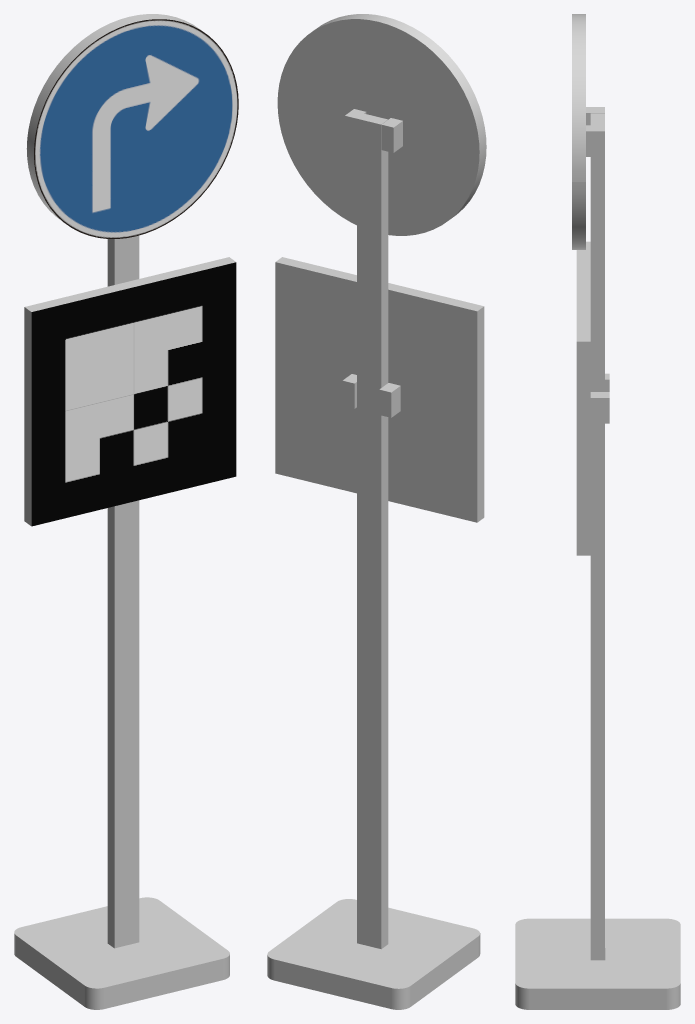
The model's file is cha_aruco.dae.
3 renders of one model, left to right at view 1: azimuth 30°, elevation 25°; view 2: azimuth 150°, elevation 25°; view 3: azimuth 270°, elevation 25°, orthographic.
Parts seen in each view (by area): view 1: aea54303-03fd-4aa6-96f5-ff9849d9c026, a60c0f55-69a4-4703-9c1a-8971016a5040, adc37a0b-d6b5-44ca-8d16-2541cd002376, a197386e-d030-40c2-a7d4-09921b7043b8, e4729a41-4d7e-447e-bb42-33a2dc1f8e3a, a0d124ff-a57a-484b-bef0-5493d590b941, f4819bcd-ab86-407b-a5e1-cd6843048b69; view 2: fed9b577-1571-4df9-b1ef-ef89185ca54c, a03252bc-6a1f-4b8d-af23-52d3ee2b32a1, adc37a0b-d6b5-44ca-8d16-2541cd002376, a197386e-d030-40c2-a7d4-09921b7043b8, e4729a41-4d7e-447e-bb42-33a2dc1f8e3a, a0d124ff-a57a-484b-bef0-5493d590b941, f4819bcd-ab86-407b-a5e1-cd6843048b69, de689769-e3c9-44c9-b316-f3e3dcc29ca2, a0a2fcb0-ae21-4bdf-b59a-0199daaa6eec; view 3: a197386e-d030-40c2-a7d4-09921b7043b8, adc37a0b-d6b5-44ca-8d16-2541cd002376, e4729a41-4d7e-447e-bb42-33a2dc1f8e3a, c099c633-defe-4734-b337-16a8bd29d01a, f4819bcd-ab86-407b-a5e1-cd6843048b69, c4ae3a84-eeb7-401f-81bd-5956f7b735c4, acfd001a-bac9-4a87-93ea-37b773a26abc.
Part boxes in pixels (x1,y1,x2,y2): aea54303-03fd-4aa6-96f5-ff9849d9c026: [31, 262, 236, 526]; a60c0f55-69a4-4703-9c1a-8971016a5040: [34, 19, 238, 238]; adc37a0b-d6b5-44ca-8d16-2541cd002376: [107, 235, 139, 948]; a197386e-d030-40c2-a7d4-09921b7043b8: [14, 897, 229, 1009]; e4729a41-4d7e-447e-bb42-33a2dc1f8e3a: [26, 14, 227, 221]; a0d124ff-a57a-484b-bef0-5493d590b941: [24, 307, 31, 526]; f4819bcd-ab86-407b-a5e1-cd6843048b69: [25, 257, 235, 311]; fed9b577-1571-4df9-b1ef-ef89185ca54c: [275, 262, 477, 522]; a03252bc-6a1f-4b8d-af23-52d3ee2b32a1: [277, 19, 479, 235]; adc37a0b-d6b5-44ca-8d16-2541cd002376: [357, 113, 388, 949]; a197386e-d030-40c2-a7d4-09921b7043b8: [267, 899, 480, 1009]; e4729a41-4d7e-447e-bb42-33a2dc1f8e3a: [312, 14, 486, 218]; a0d124ff-a57a-484b-bef0-5493d590b941: [477, 306, 484, 522]; f4819bcd-ab86-407b-a5e1-cd6843048b69: [275, 257, 483, 311]; de689769-e3c9-44c9-b316-f3e3dcc29ca2: [379, 383, 400, 417]; a0a2fcb0-ae21-4bdf-b59a-0199daaa6eec: [381, 118, 402, 152]; a197386e-d030-40c2-a7d4-09921b7043b8: [515, 918, 680, 1009]; adc37a0b-d6b5-44ca-8d16-2541cd002376: [590, 113, 604, 960]; e4729a41-4d7e-447e-bb42-33a2dc1f8e3a: [572, 14, 585, 249]; c099c633-defe-4734-b337-16a8bd29d01a: [576, 341, 590, 555]; f4819bcd-ab86-407b-a5e1-cd6843048b69: [576, 241, 590, 341]; c4ae3a84-eeb7-401f-81bd-5956f7b735c4: [590, 392, 609, 423]; acfd001a-bac9-4a87-93ea-37b773a26abc: [586, 125, 604, 156].
Size of the model in its own units: 0.05 by 0.035 by 0.222.
2 materials, 2 textured.
